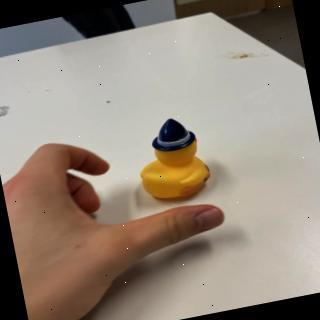duck_specialty: (130, 112, 218, 207)
